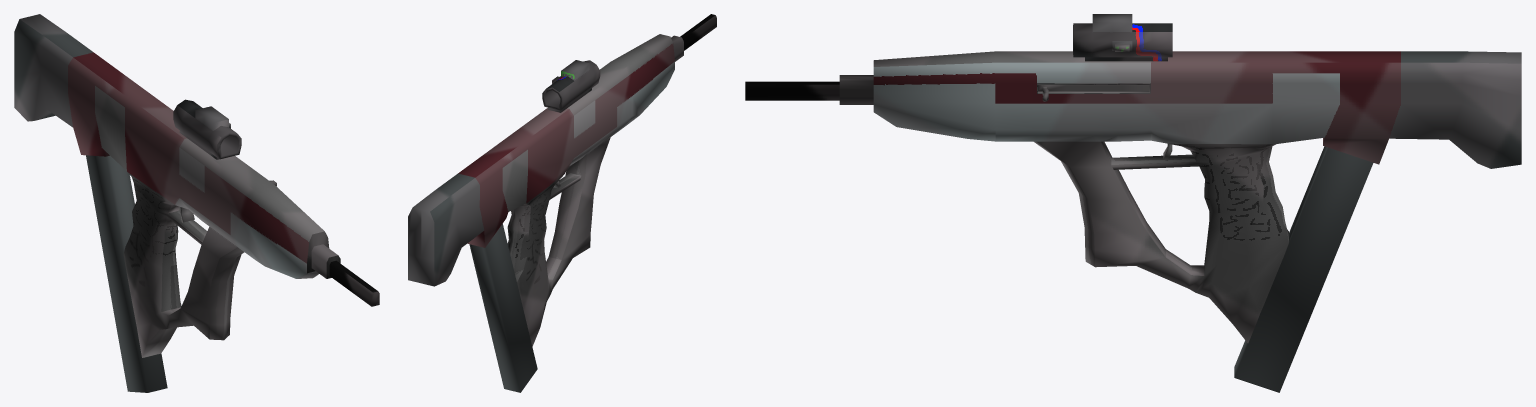
The model's file is smg.glb.
3 views of the same model, side by side, from view 1: azimuth 30°, elevation 25°; view 2: azimuth 150°, elevation 25°; view 3: azimuth 270°, elevation 25° (orthographic). The views are drawn at different scales.
Visible parts, largest first — view 1: SMG, smgMagazine; view 2: SMG, smgMagazine; view 3: SMG, smgMagazine, smgSlide.
Part boxes in pixels (<box>): SMG: <box>14,14,379,357</box>; smgMagazine: <box>86,155,167,392</box>; SMG: <box>408,14,716,346</box>; smgMagazine: <box>469,223,537,392</box>; SMG: <box>745,14,1521,343</box>; smgMagazine: <box>1234,146,1373,392</box>; smgSlide: <box>1038,85,1149,101</box>.
Size of the model in its own units: 0.1617 by 1.03 by 1.96.
1 material, 1 textured.
